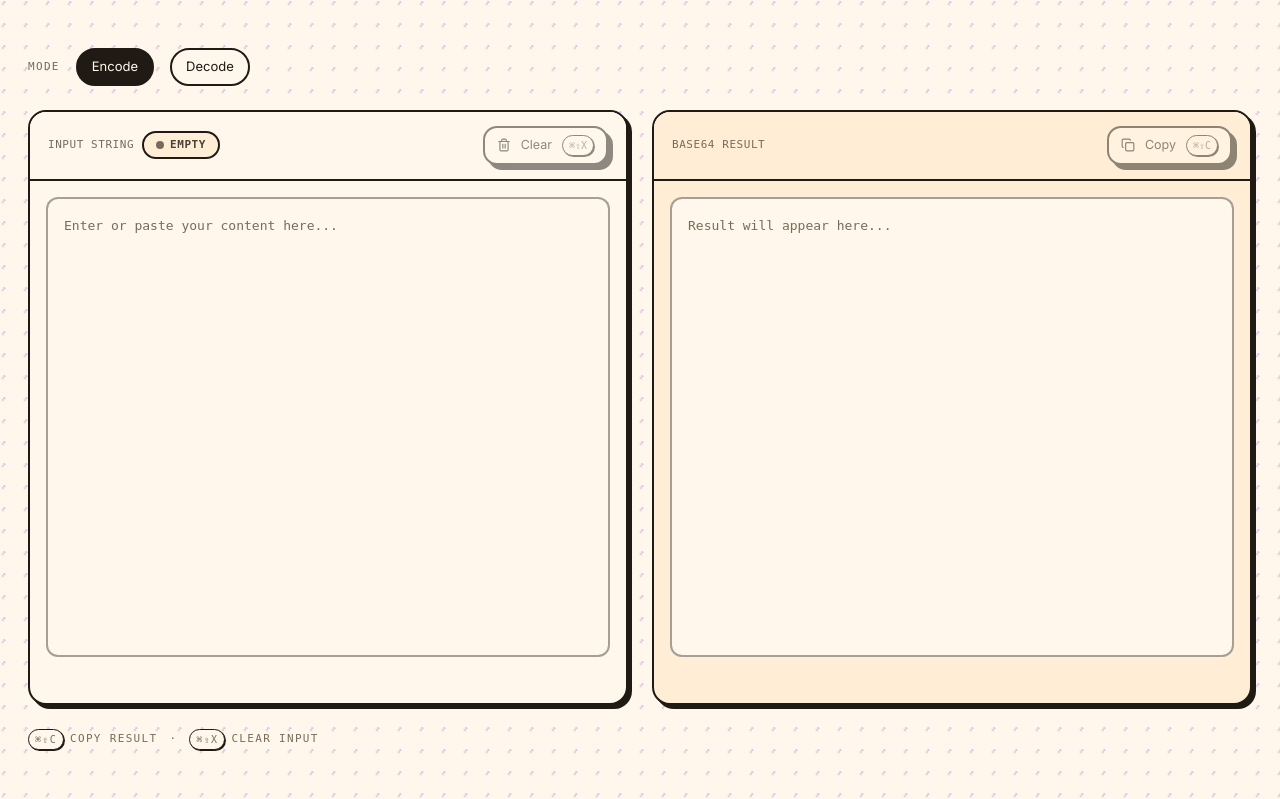
it: Base64EncoderRoute › clear resets all state including errors
Click the button "Decode": (210, 67) [170, 48, 250, 86]
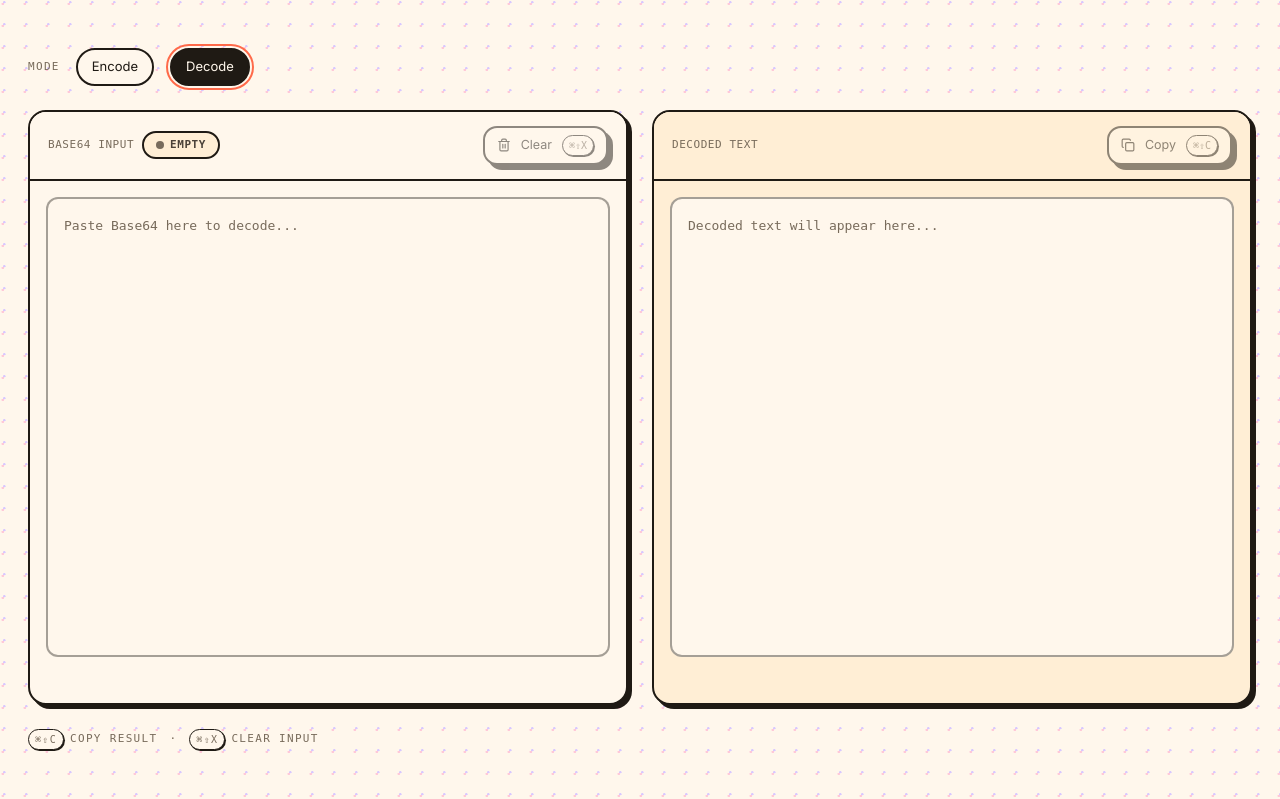
In the text box with id "base64-input": (328, 426) [46, 196, 610, 656], type "!!!invalid!!!"
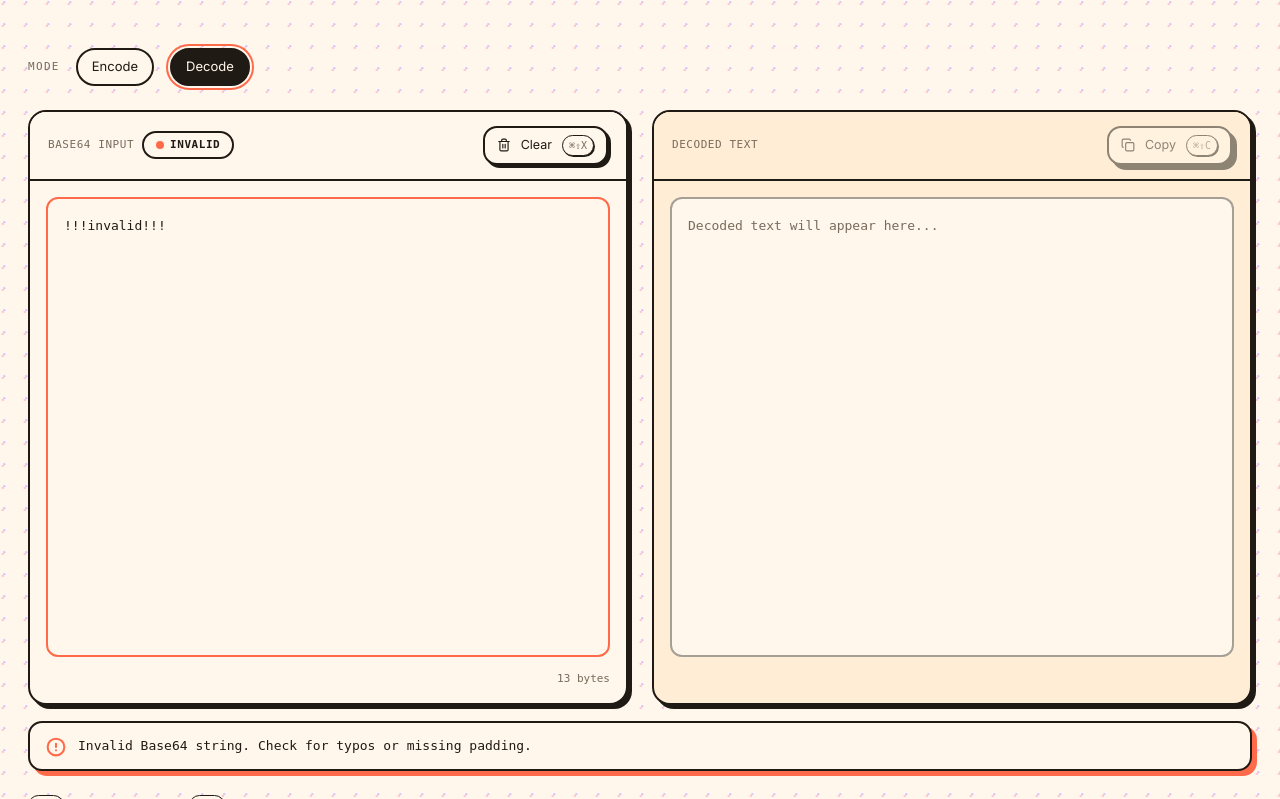
Expected: the text "Invalid Base64 string. Check for typos or missing padding." is shown, [78, 738, 532, 753]
Click the button with aria-label "Clear input": (545, 145) [483, 126, 608, 164]
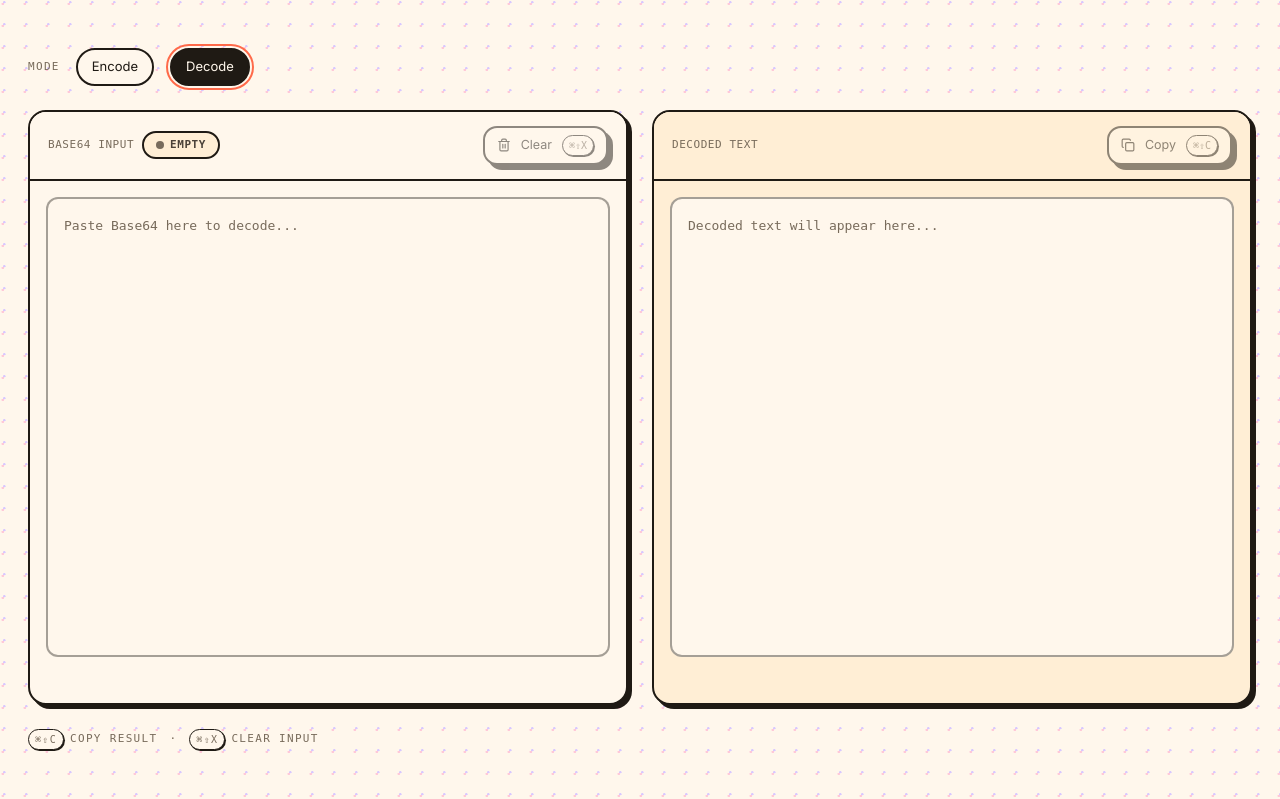
Expected: the text box with id "base64-output" is empty, [670, 196, 1234, 656]
Expected: the text box with id "base64-input" is empty, [46, 196, 610, 656]
Expected: the text "Invalid Base64" is gone
